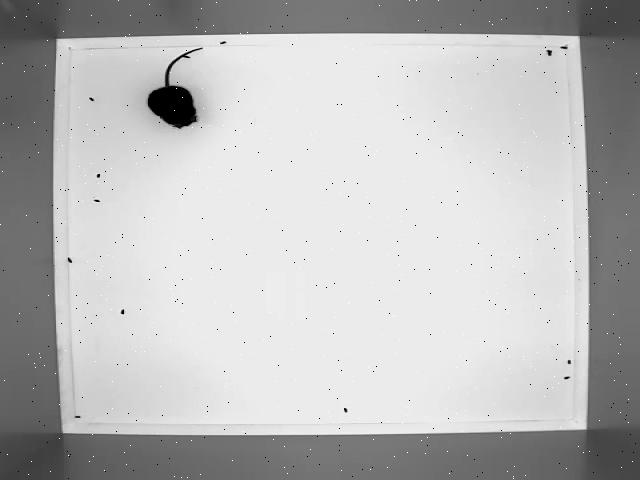Tikus: (144, 44, 210, 131)
